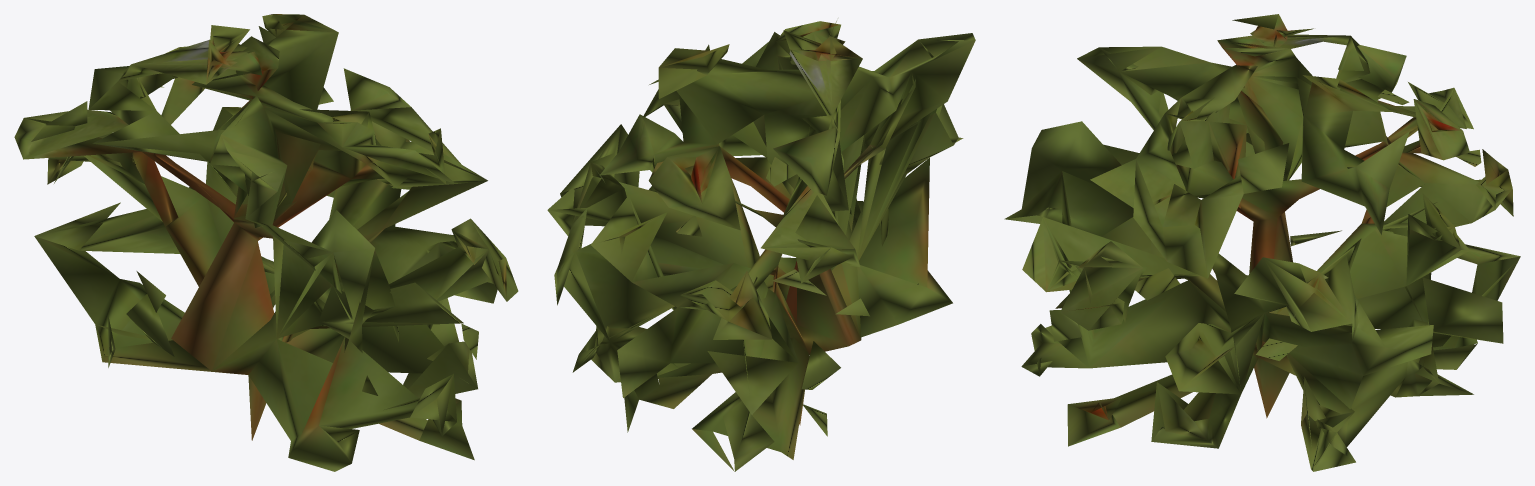
The model's file is bush.glb.
The picture shows the model from 3 angles, left to right: view 1: azimuth 30°, elevation 25°; view 2: azimuth 150°, elevation 25°; view 3: azimuth 270°, elevation 25°; orthographic projection. The views are drawn at different scales.
Visible parts, largest first — view 1: tripo_node_8c3703ee-5b58-4b7e-9396-d615473d6f69; view 2: tripo_node_8c3703ee-5b58-4b7e-9396-d615473d6f69; view 3: tripo_node_8c3703ee-5b58-4b7e-9396-d615473d6f69.
Boxes of the visible parts, left/top/right/bottom form: tripo_node_8c3703ee-5b58-4b7e-9396-d615473d6f69: left=14, top=14, right=518, bottom=471; tripo_node_8c3703ee-5b58-4b7e-9396-d615473d6f69: left=547, top=21, right=975, bottom=471; tripo_node_8c3703ee-5b58-4b7e-9396-d615473d6f69: left=1004, top=14, right=1520, bottom=471.
Size of the model in its own units: 0.7762 by 0.8289 by 1.
1 material, 1 textured.
